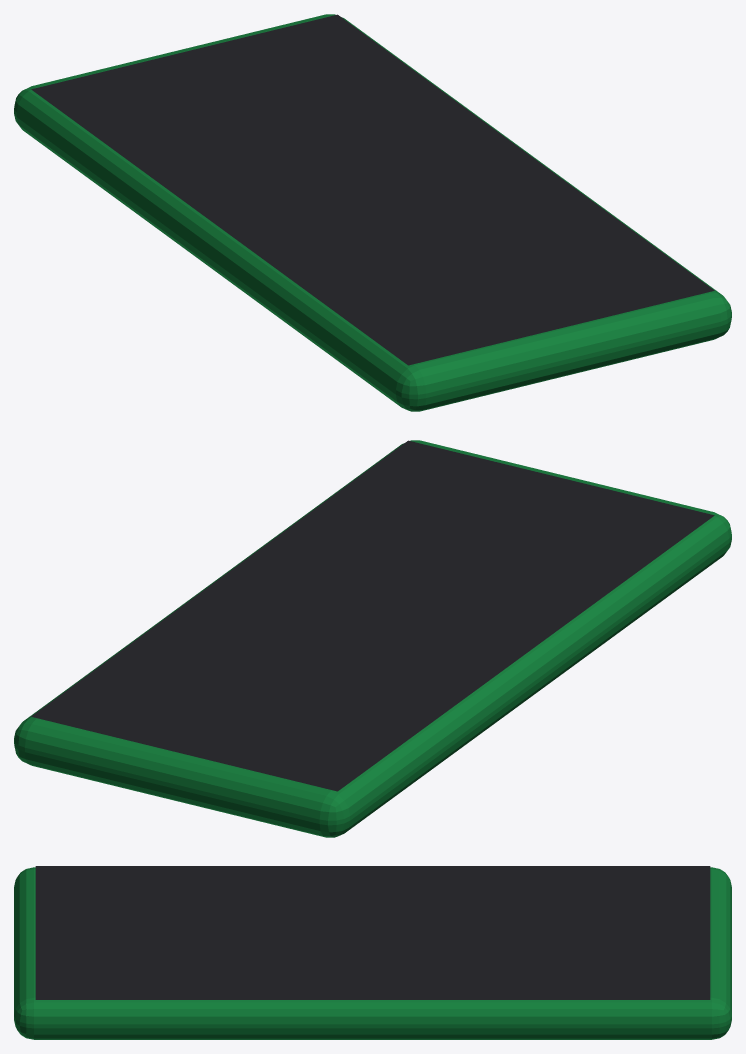
The model's file is tecno-spark-model-436-budget-2022.glb.
3 views of the same model, one above another, from view 1: azimuth 30°, elevation 25°; view 2: azimuth 150°, elevation 25°; view 3: azimuth 270°, elevation 25° (orthographic). The views are drawn at different scales.
Parts seen in each view (by area): view 1: Phone_Screen, Phone_Body; view 2: Phone_Screen, Phone_Body; view 3: Phone_Screen, Phone_Body.
Part boxes in pixels (x1,y1,x2,y2): Phone_Screen: (31, 14, 714, 365); Phone_Body: (14, 14, 731, 411); Phone_Screen: (31, 440, 714, 791); Phone_Body: (14, 440, 731, 837); Phone_Screen: (35, 866, 710, 999); Phone_Body: (14, 867, 731, 1039).
Size of the model in its own units: 0.0761 by 0.0099 by 0.1587.
